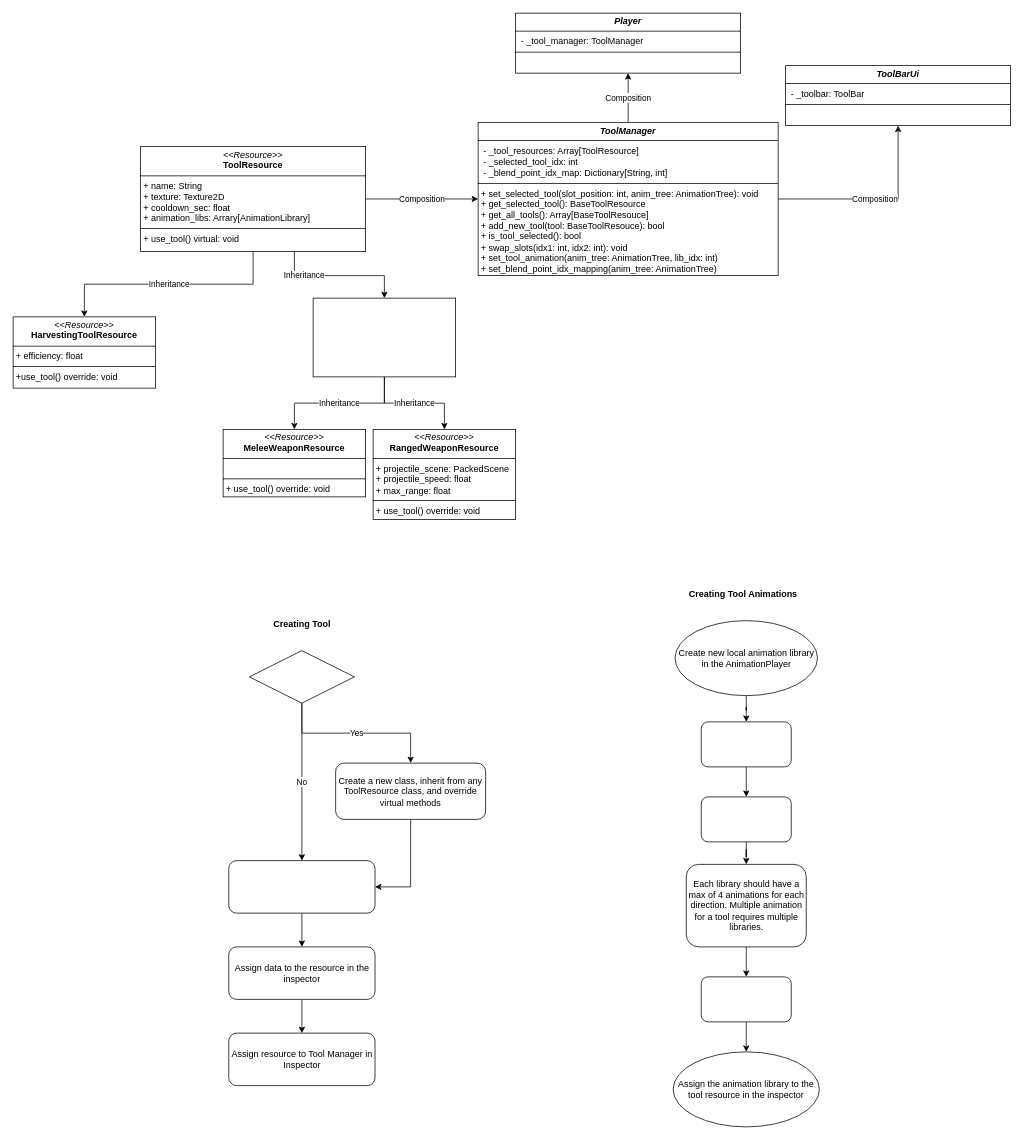
The diagram is 1024 pixels wide and 1140 high, and some of its shapes have lost their labels. Each missing label, with the centre of its shape:
<<Resource>> WeaponResource + damage: int + knockback_mag: float: [384,337]
Create a new resource of the desired tool type in the FileSystem (.tres): [301,886]
Create new tool animations for each direction: [745,744]
Ensure the animation names has the direction string in it: [745,819]
Export animation library to the FileSystem: [745,999]
New type of tool?: [301,676]
